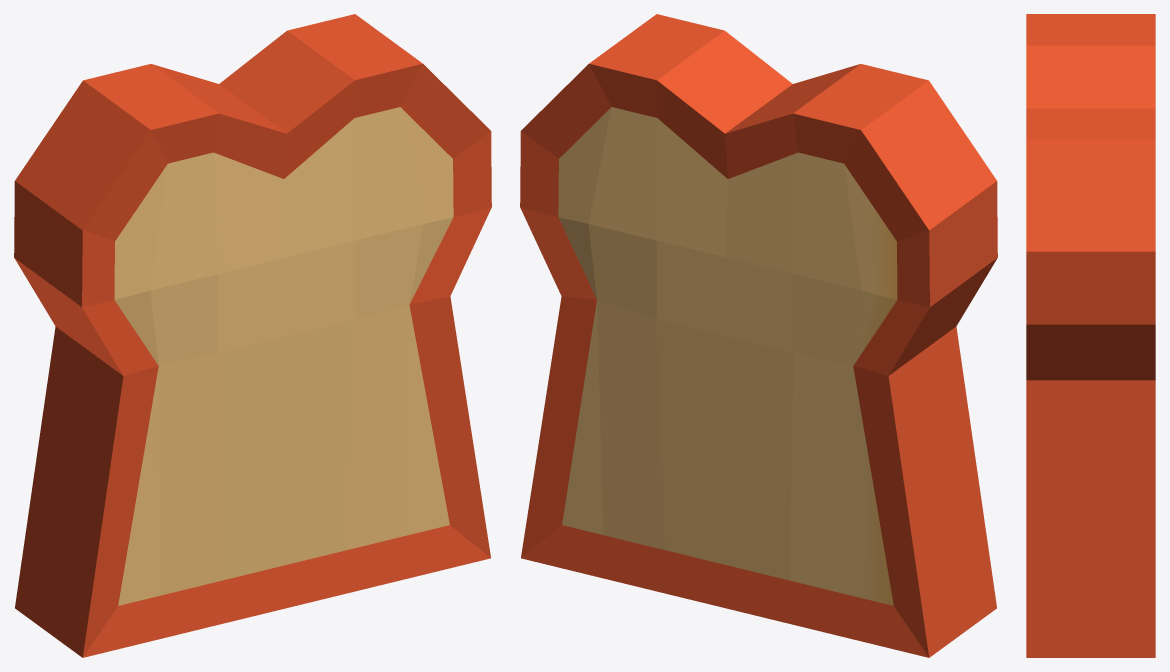
Rendered from toastbrot.fbx.
3 renders of one model, left to right at view 1: azimuth 30°, elevation 25°; view 2: azimuth 150°, elevation 25°; view 3: azimuth 270°, elevation 25°, orthographic. The views are drawn at different scales.
Parts seen in each view (by area): view 1: toasbrot; view 2: toasbrot; view 3: toasbrot.
Part boxes in pixels (box(x1,y1,x2,y2)): toasbrot: box(14, 14, 491, 657); toasbrot: box(520, 14, 997, 657); toasbrot: box(1026, 14, 1155, 657).
Size of the model in its own units: 36.77 by 43.82 by 10.55.
1 material, 1 textured.
